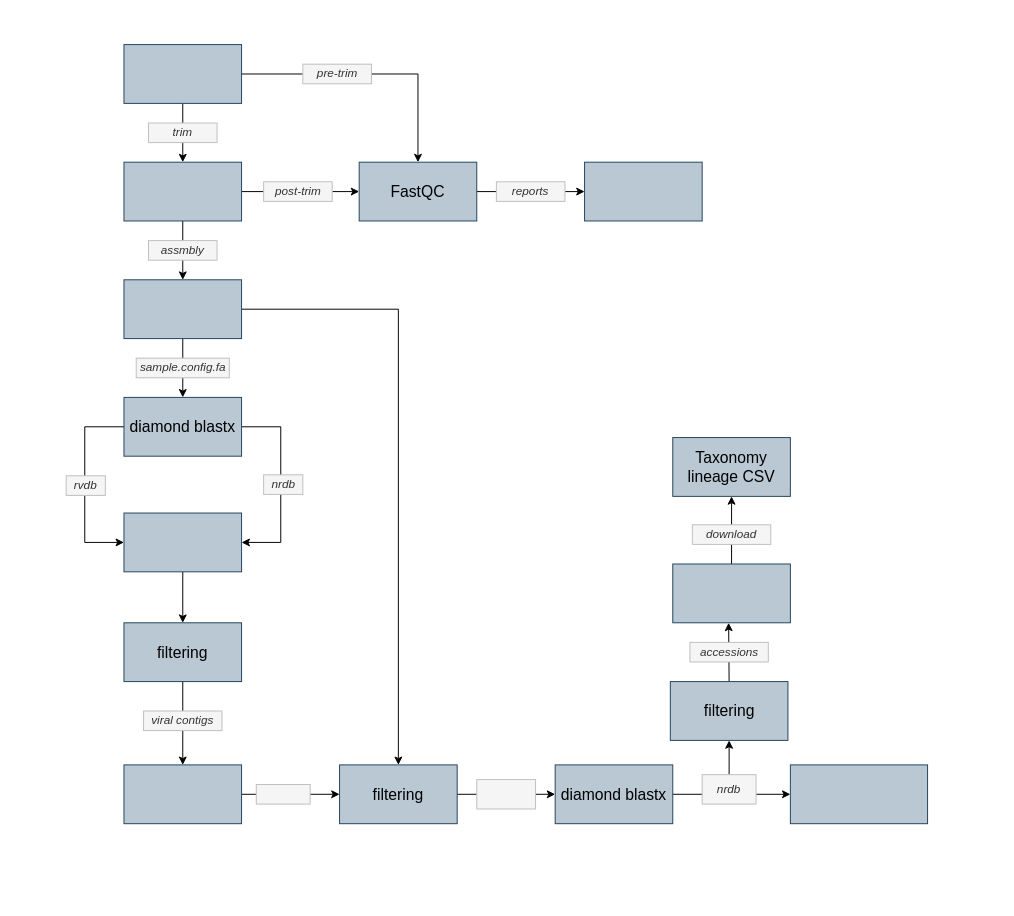
Some shapes in this 1014 by 916 pixel diagram are drawn without their labels. Each missing label, with the centre of its shape:
"Accessions list" belongs at point (731, 593).
"Align and estimate abundance" belongs at point (858, 794).
"combined results" belongs at point (182, 542).
"Magahit" belongs at point (182, 309).
"MultiQC" belongs at point (643, 191).
"NCBI blastn" belongs at point (182, 794).
"ntdb" belongs at point (282, 794).
"Raw reads" belongs at point (182, 73).
"Trimmomatic" belongs at point (182, 191).
"vital contigs" belongs at point (506, 794).
